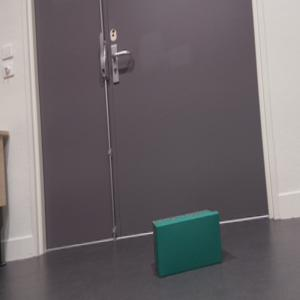small: (148, 207, 228, 279)
